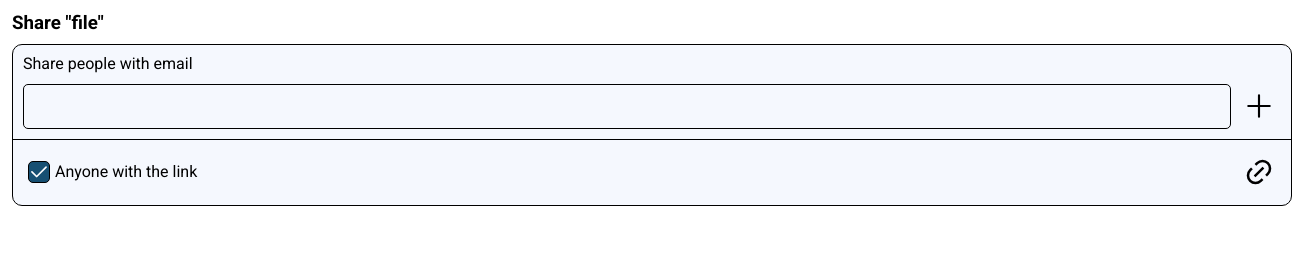
Test: FileShare component › should render an error field message if creating file sharer error occurs after submission
Type "email@email.com" into the field labelled "Share people with email" at coordinates (627, 106), box x1=23 y1=84 x2=1231 y2=129
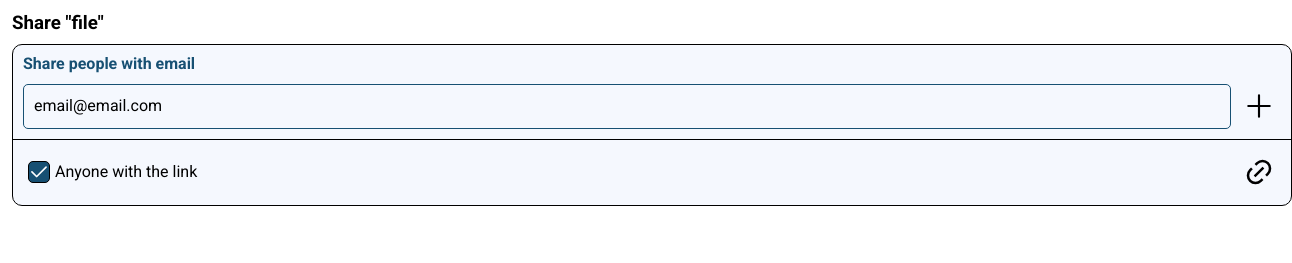
Click the button titled "submit" at coordinates (1258, 106), box x1=1236 y1=84 x2=1281 y2=129
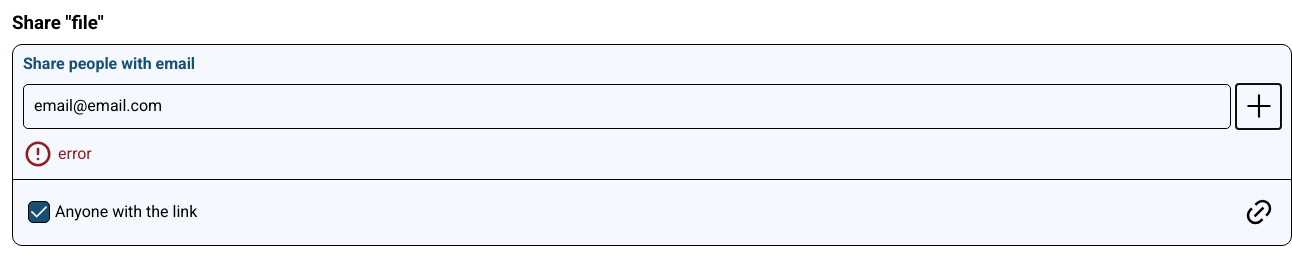
Result: the text "error" is shown at x1=58 y1=144 x2=92 y2=163
